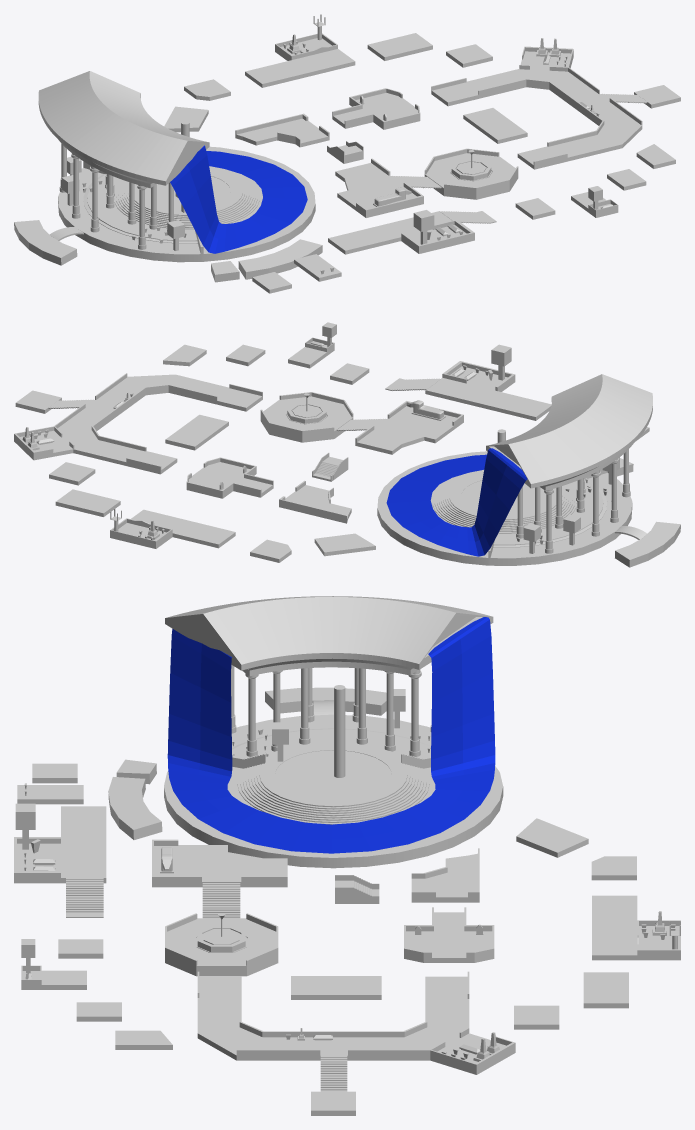
The model's file is Map_002.fbx.
3 views of the same model, one above another, from view 1: azimuth 30°, elevation 25°; view 2: azimuth 150°, elevation 25°; view 3: azimuth 270°, elevation 25° (orthographic). The views are drawn at different scales.
Visible parts, largest first — view 1: Arène, Toit, Platform_U, Plane.001, Platform_201, Platform_405.001, Platform_302, Platform_200, Platform_.101, Platform_.102, Pilonne, Platform_501 (+18 smaller); view 2: Arène, Toit, Platform_U, Plane.001, Platform_201, Platform_405.001, Platform_200, Platform_302, Platform_.101, Pilonne, Platform_.102, Platform_502 (+16 smaller); view 3: Plane.001, Arène, Toit, Platform_U, Platform_201, Platform_405.001, Platform_200, Platform_302, Platform_.101, Pilonne, Platform_.102, Platform_501 (+18 smaller).
Part boxes in pixels (<box>): Arène: <box>58,146,315,262</box>; Toit: <box>38,71,209,188</box>; Platform_U: <box>431,46,642,169</box>; Plane.001: <box>170,145,307,253</box>; Platform_201: <box>424,148,518,199</box>; Platform_405.001: <box>328,211,474,254</box>; Platform_302: <box>245,33,355,87</box>; Platform_200: <box>335,158,423,217</box>; Platform_.101: <box>332,88,420,129</box>; Platform_.102: <box>235,113,329,147</box>; Pilonne: <box>71,153,157,232</box>; Platform_501: <box>238,239,322,279</box>; Arène: <box>377,451,632,565</box>; Toit: <box>486,374,652,490</box>; Platform_U: <box>14,373,262,474</box>; Plane.001: <box>386,448,527,556</box>; Platform_201: <box>260,392,353,442</box>; Platform_405.001: <box>425,361,551,420</box>; Platform_200: <box>355,401,463,454</box>; Platform_302: <box>110,509,235,548</box>; Platform_.101: <box>186,457,273,498</box>; Pilonne: <box>534,458,619,536</box>; Platform_.102: <box>279,480,351,523</box>; Platform_502: <box>615,521,680,567</box>; Plane.001: <box>167,617,495,853</box>; Arène: <box>164,714,503,868</box>; Toit: <box>165,596,493,676</box>; Platform_U: <box>197,971,515,1074</box>; Platform_201: <box>165,913,278,976</box>; Platform_405.001: <box>14,806,106,883</box>; Platform_200: <box>152,839,287,887</box>; Platform_302: <box>592,895,680,960</box>; Platform_.101: <box>404,907,494,962</box>; Pilonne: <box>271,668,395,751</box>; Platform_.102: <box>411,848,479,902</box>; Platform_501: <box>108,777,162,839</box>.
Size of the model in its own units: 17320 by 3102 by 11793.
